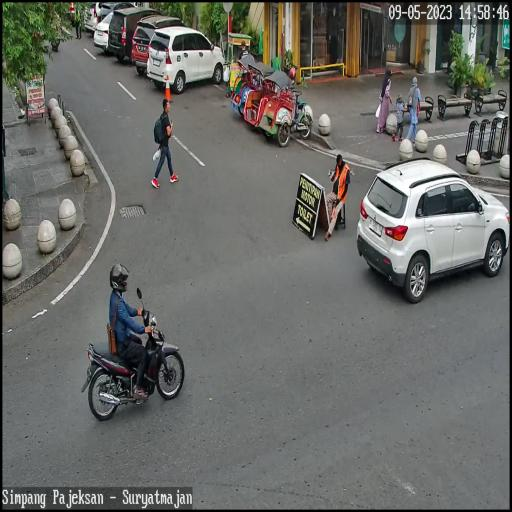mobil: (356, 156, 510, 302), (148, 26, 224, 94), (109, 6, 160, 66), (132, 16, 185, 70)
motor: (82, 288, 186, 420)
